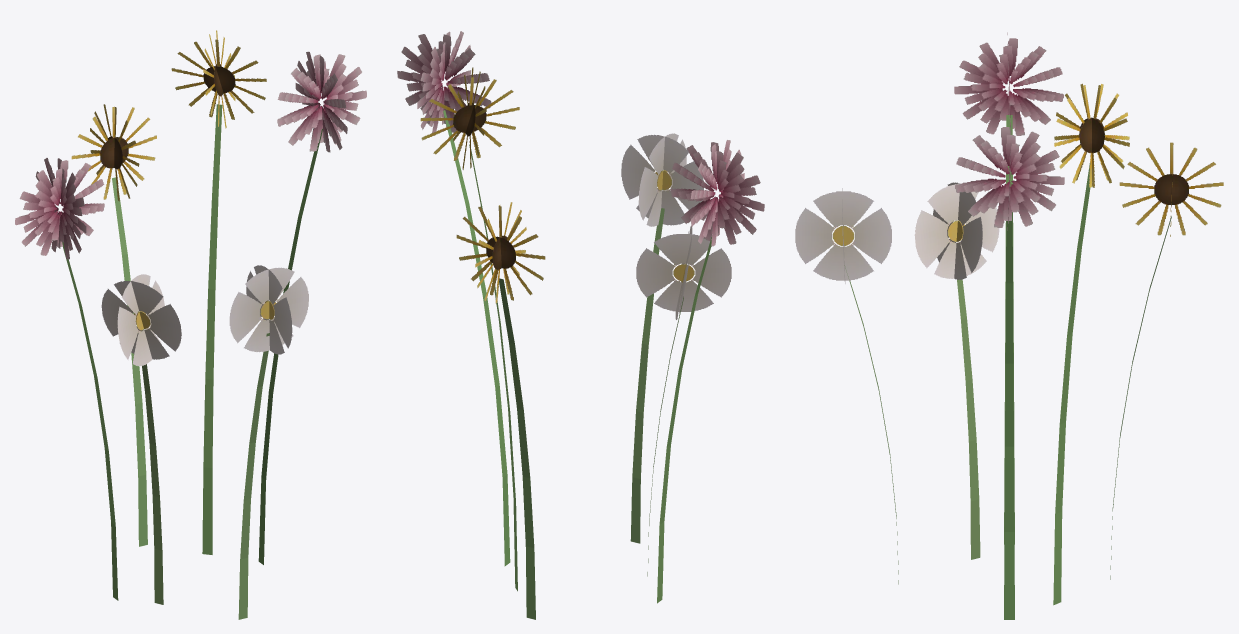
Rendered from lib_lib_flower_meadow.glb.
3 views of the same model, side by side, from view 1: azimuth 30°, elevation 25°; view 2: azimuth 150°, elevation 25°; view 3: azimuth 270°, elevation 25° (orthographic). The views are drawn at different scales.
Parts seen in each view (by area): view 1: flower_meadow; view 2: flower_meadow; view 3: flower_meadow.
Part boxes in pixels (bbox=[...]): flower_meadow: bbox=[15, 30, 366, 619]; flower_meadow: bbox=[397, 31, 764, 619]; flower_meadow: bbox=[795, 32, 1223, 619].
Bounding box in the file's own units: 0.35 × 0.4757 × 0.35.
Materials: 4 (3 with a texture image).
